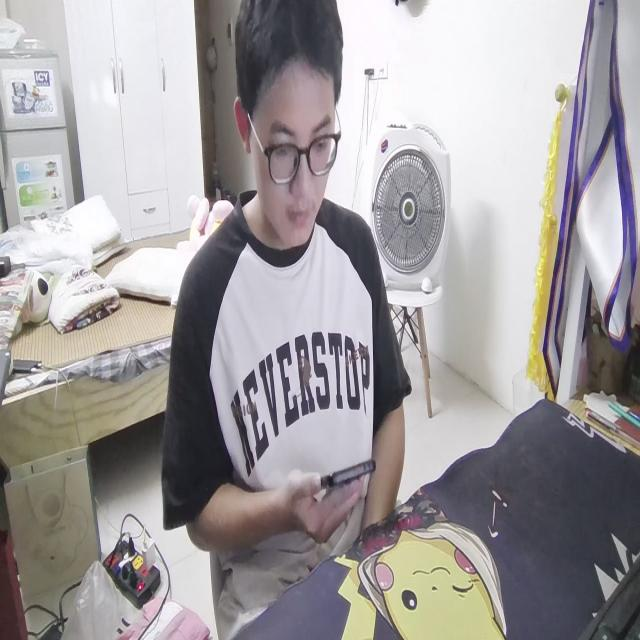phone: (316, 458, 380, 491)
student: (166, 0, 405, 613)
